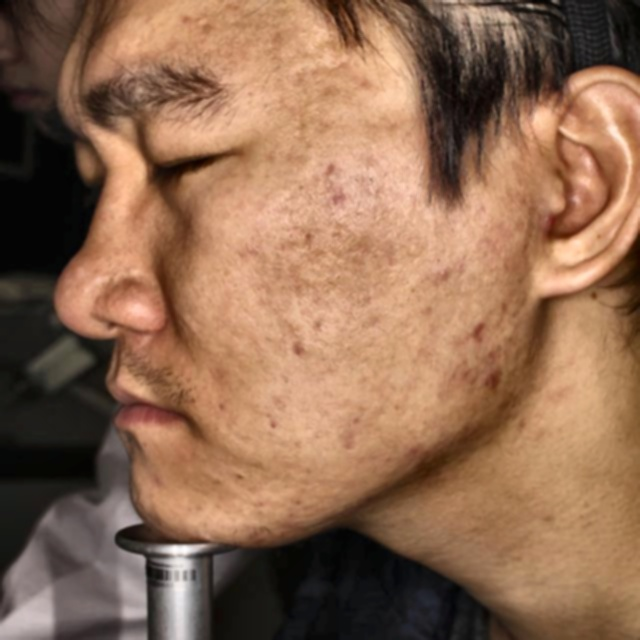comedone: (457, 319, 493, 346), (471, 367, 502, 396)
